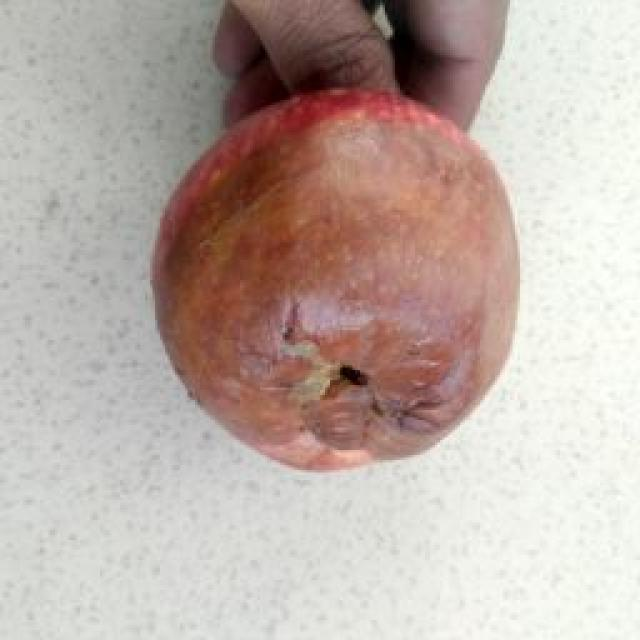Bad_Apple: (155, 91, 518, 469)
